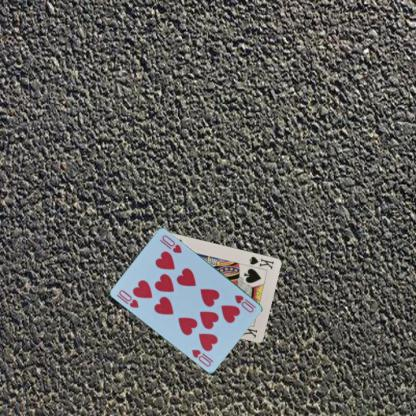10h: (232, 292, 258, 314), (117, 287, 140, 309)
Ks: (246, 254, 275, 270)
